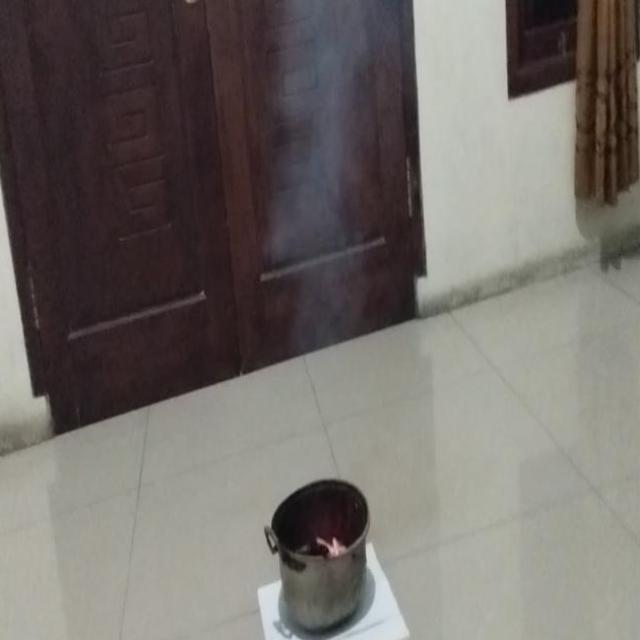fire: (265, 0, 384, 339)
